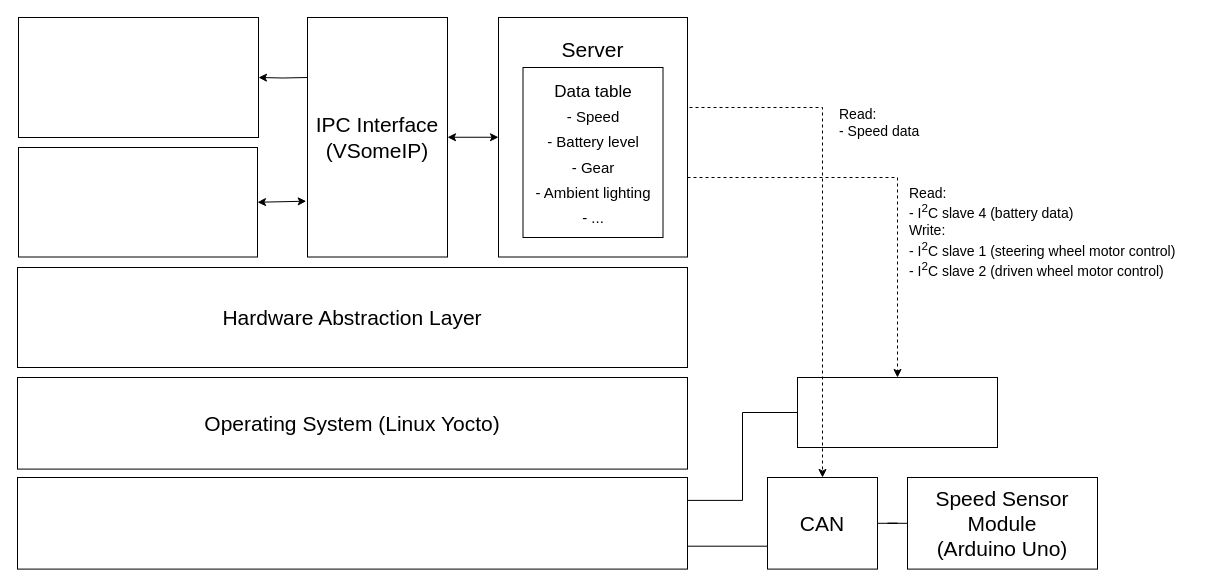
Image size: 1205x587. Some labels were removed from this diagram. The shapes that lost their labels are listed below. From the top down, each one's centre as x and y in pixels, then its label:
[138,77]: Instrument Cluster
[138,201]: Head Unit
[897,412]: I 2 C Master
[352,522]: Hardware (RPi 4B)
